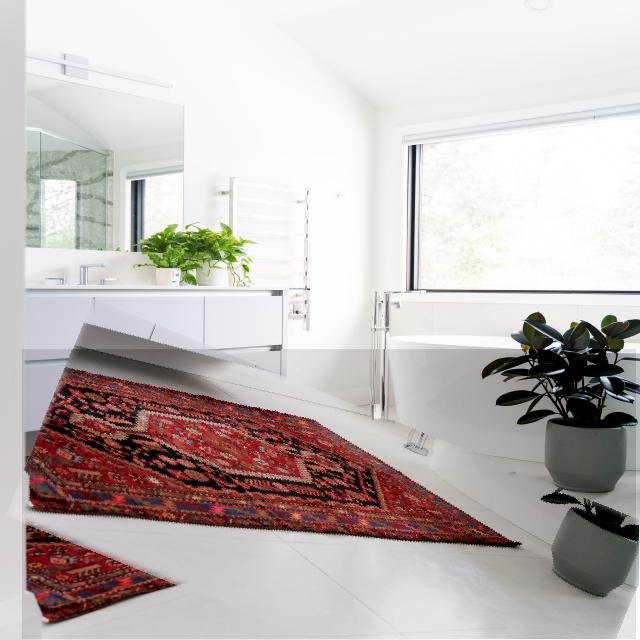floor: (22, 349, 636, 640), (374, 404, 381, 419), (372, 405, 374, 420)
